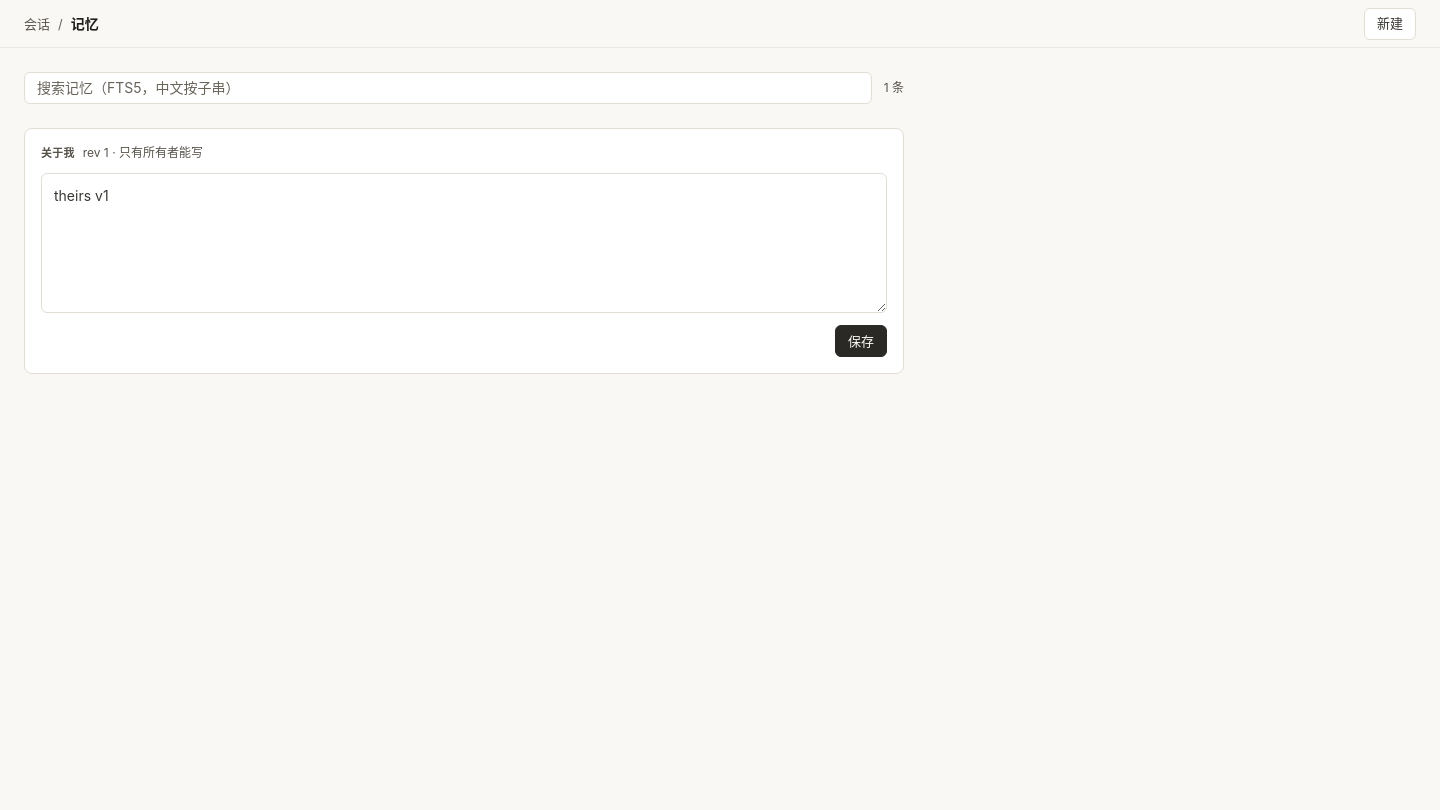
about-me saves the draft's base revision › answers a moved server with 409 again after the dialog was dismissed
Replace the text in the text box with test id "memory-about-body" with "mine" at (464, 243), box [41,173,887,313]
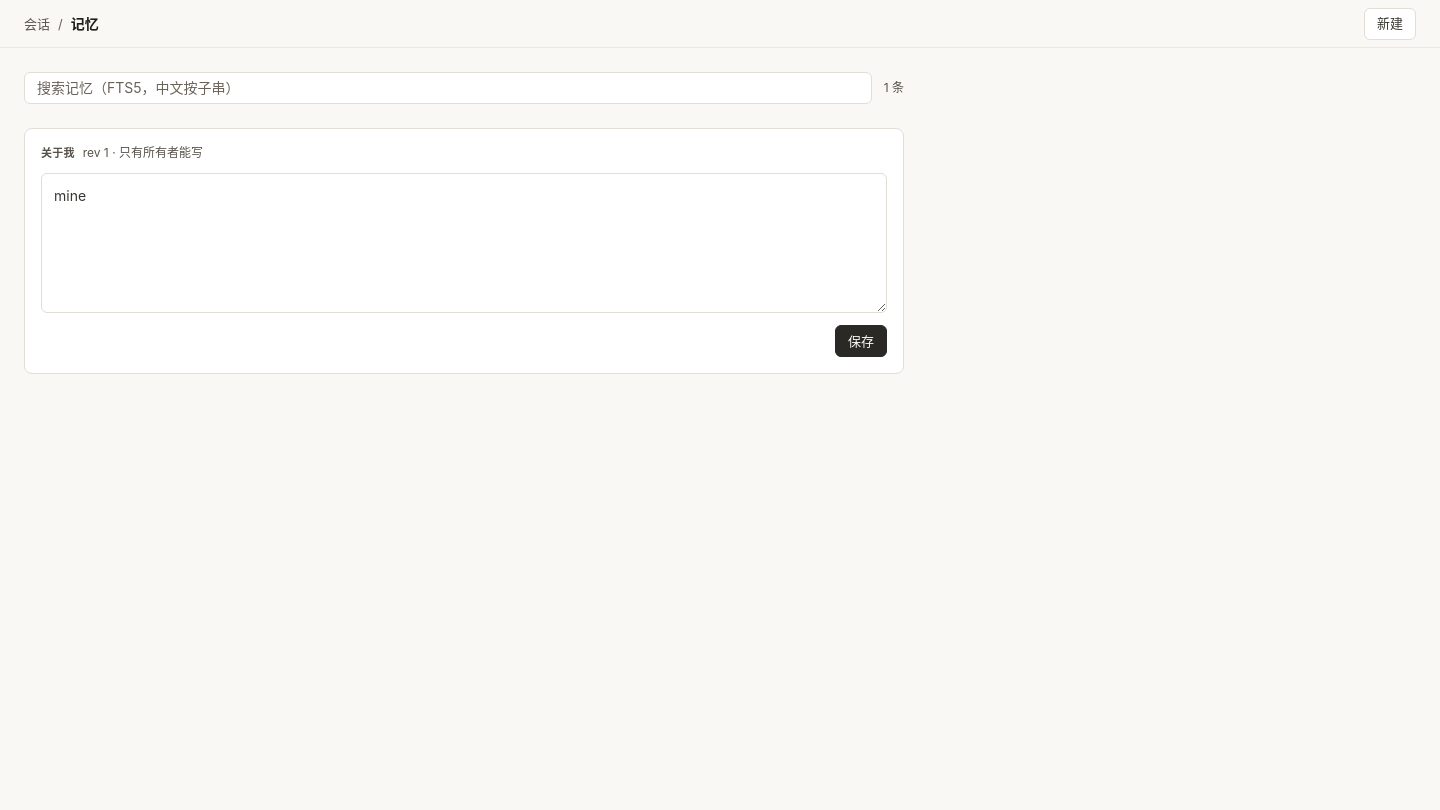
Type "边界" into the search field with test id "memory-search".
click(448, 88); type("边界")  # box [24,72,872,104]
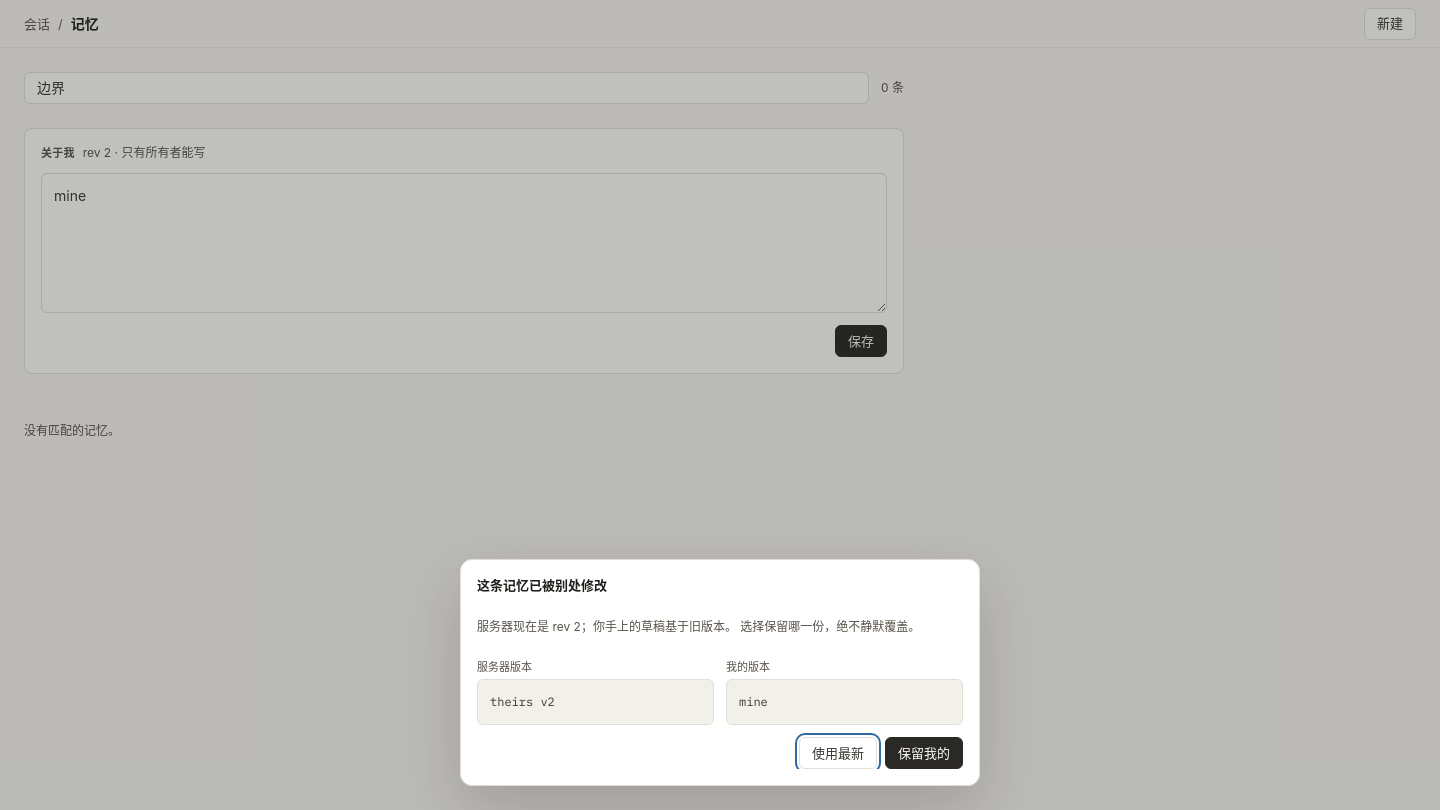
Now the element with test id "memory-conflict" is shown, box [477,576,963,769]
Press Escape in the dialog, box [460,559,980,786]
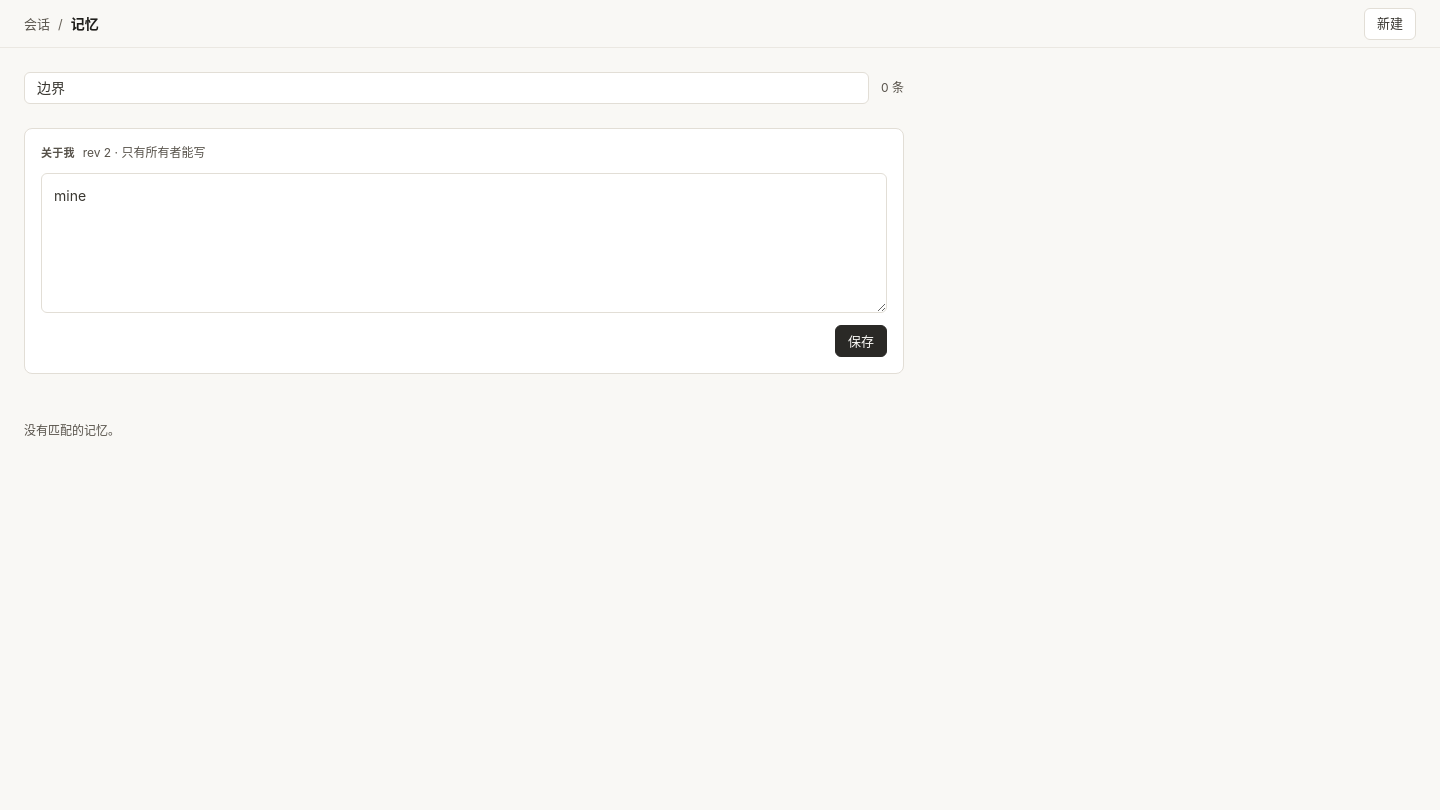
Now the element with test id "memory-conflict" is gone
Click the button with test id "memory-about-save".
click(861, 341)  # box [835,325,887,357]
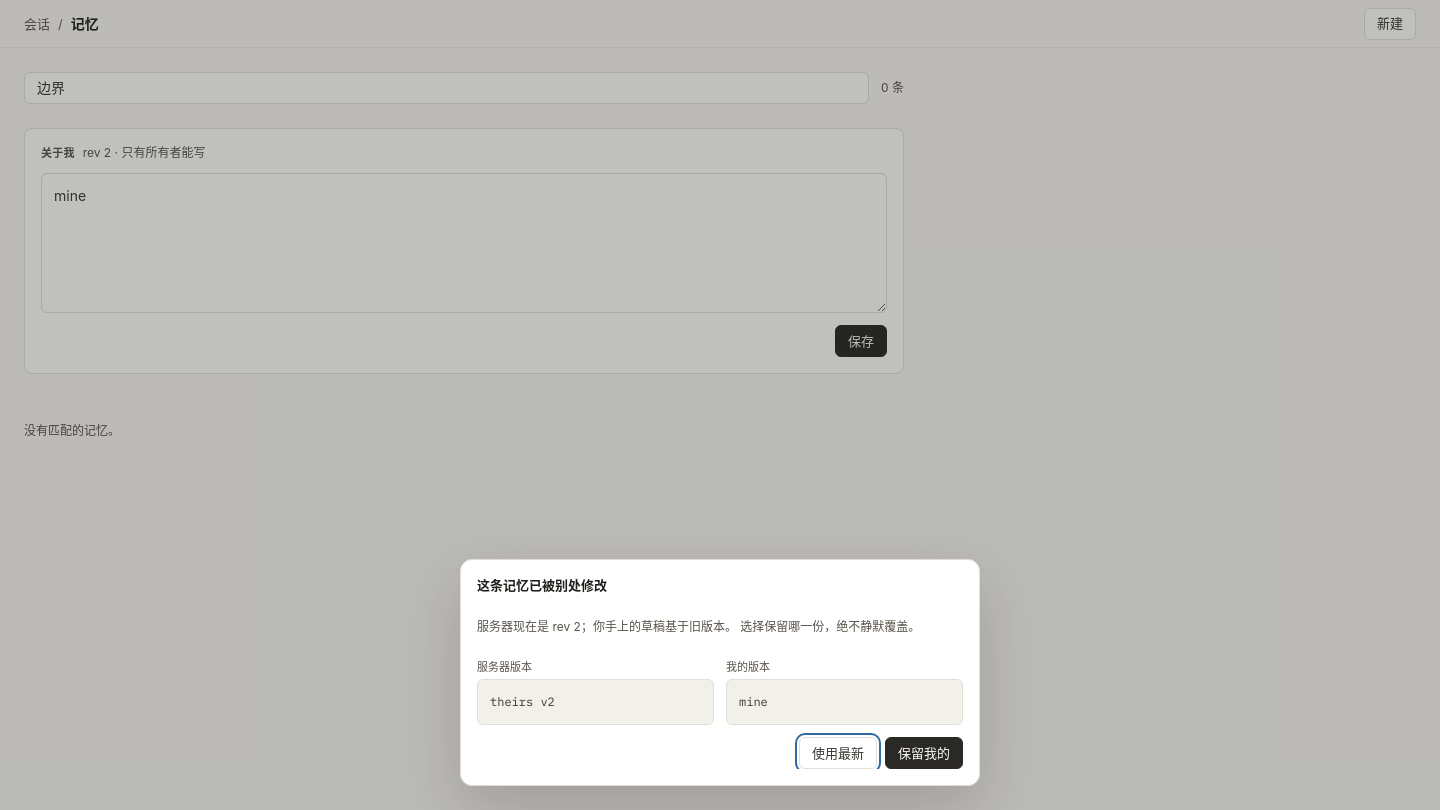
Now the element with test id "memory-conflict" is shown, box [477,576,963,769]
Now the text with test id "memory-conflict-server" reads "theirs v2", box [490,694,555,709]
Now the text with test id "memory-conflict-mine" reads "mine", box [739,694,768,709]
